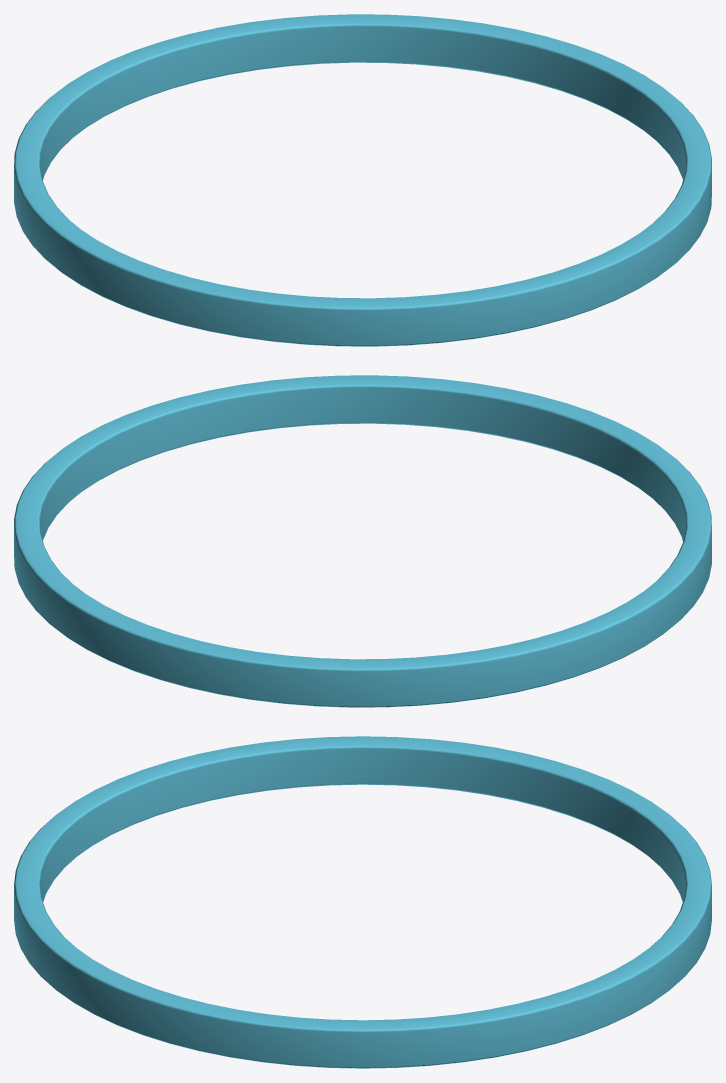
3 views of the same model, one above another, from view 1: azimuth 30°, elevation 25°; view 2: azimuth 150°, elevation 25°; view 3: azimuth 270°, elevation 25° (orthographic).
Visible parts, largest first — view 1: seal_body; view 2: seal_body; view 3: seal_body.
Part boxes in pixels (<box>): seal_body: <box>14,14,711,346</box>; seal_body: <box>14,375,711,707</box>; seal_body: <box>14,736,711,1068</box>.
Size of the model in its own units: 0.254 by 0.0159 by 0.254.
